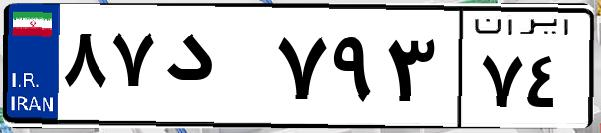3: (385, 28, 445, 110)
4: (525, 38, 570, 115)
7: (270, 28, 330, 110), (475, 38, 525, 113), (110, 28, 158, 98)
8: (57, 26, 110, 100)
9: (330, 28, 385, 110)
د: (158, 20, 270, 120)
